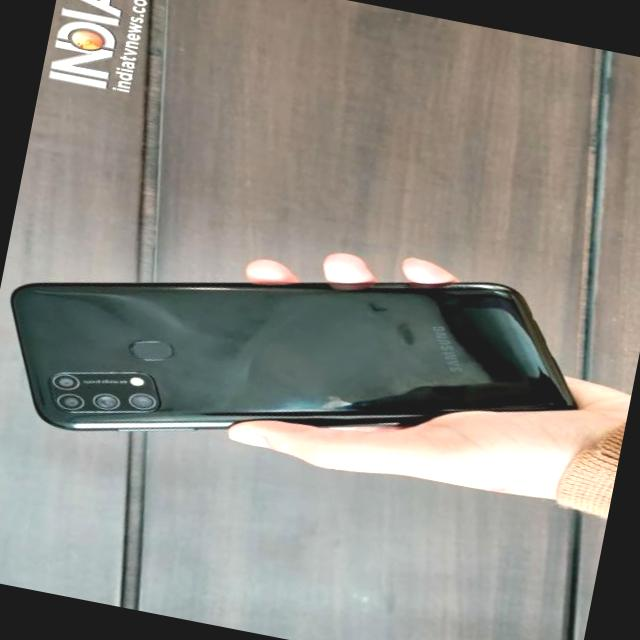lens_back: (122, 385, 163, 419), (92, 388, 124, 418), (46, 368, 85, 392), (54, 388, 86, 416)
phone: (0, 189, 597, 519)
